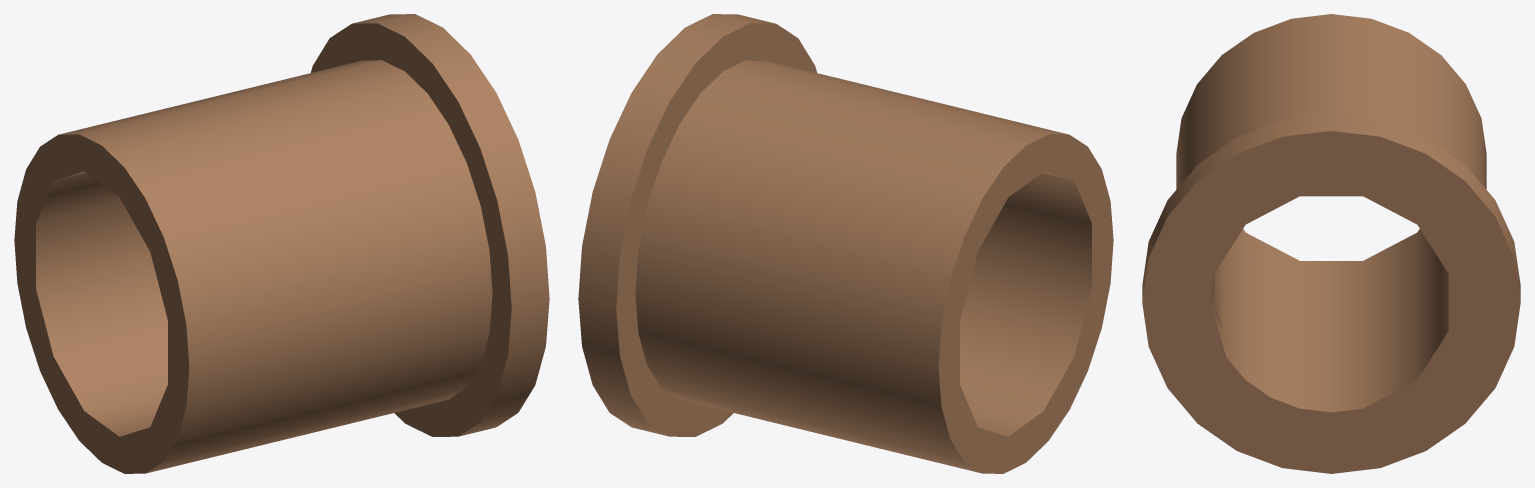
The model's file is HID-CNX-005_lod1.glb.
The picture shows the model from 3 angles, left to right: view 1: azimuth 30°, elevation 25°; view 2: azimuth 150°, elevation 25°; view 3: azimuth 270°, elevation 25°; orthographic projection. The views are drawn at different scales.
Visible parts, largest first — view 1: HID-CNX-005_corpo, HID-CNX-005_aba; view 2: HID-CNX-005_corpo, HID-CNX-005_aba; view 3: HID-CNX-005_aba, HID-CNX-005_corpo.
Boxes of the visible parts, left/top/right/bottom form: HID-CNX-005_corpo: left=14, top=60, right=492, bottom=473; HID-CNX-005_aba: left=311, top=14, right=549, bottom=436; HID-CNX-005_corpo: left=635, top=60, right=1113, bottom=473; HID-CNX-005_aba: left=578, top=14, right=816, bottom=436; HID-CNX-005_aba: left=1142, top=114, right=1520, bottom=473; HID-CNX-005_corpo: left=1176, top=14, right=1486, bottom=392.
Size of the model in its own units: 0.036 by 0.039 by 0.039.
